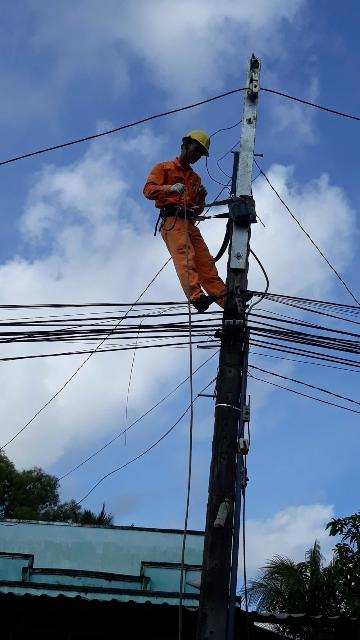gloves: (165, 181, 189, 194)
harness: (161, 202, 236, 225)
helmet: (172, 126, 220, 161)
shoes: (190, 293, 225, 314)
